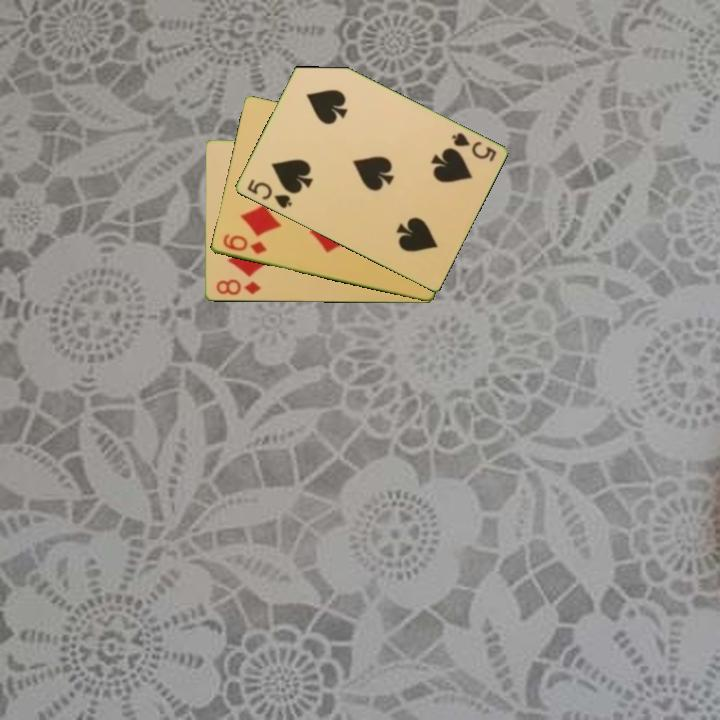5s: (243, 175, 295, 211), (447, 129, 499, 165)
6d: (219, 231, 270, 257)
8d: (212, 276, 264, 298)
